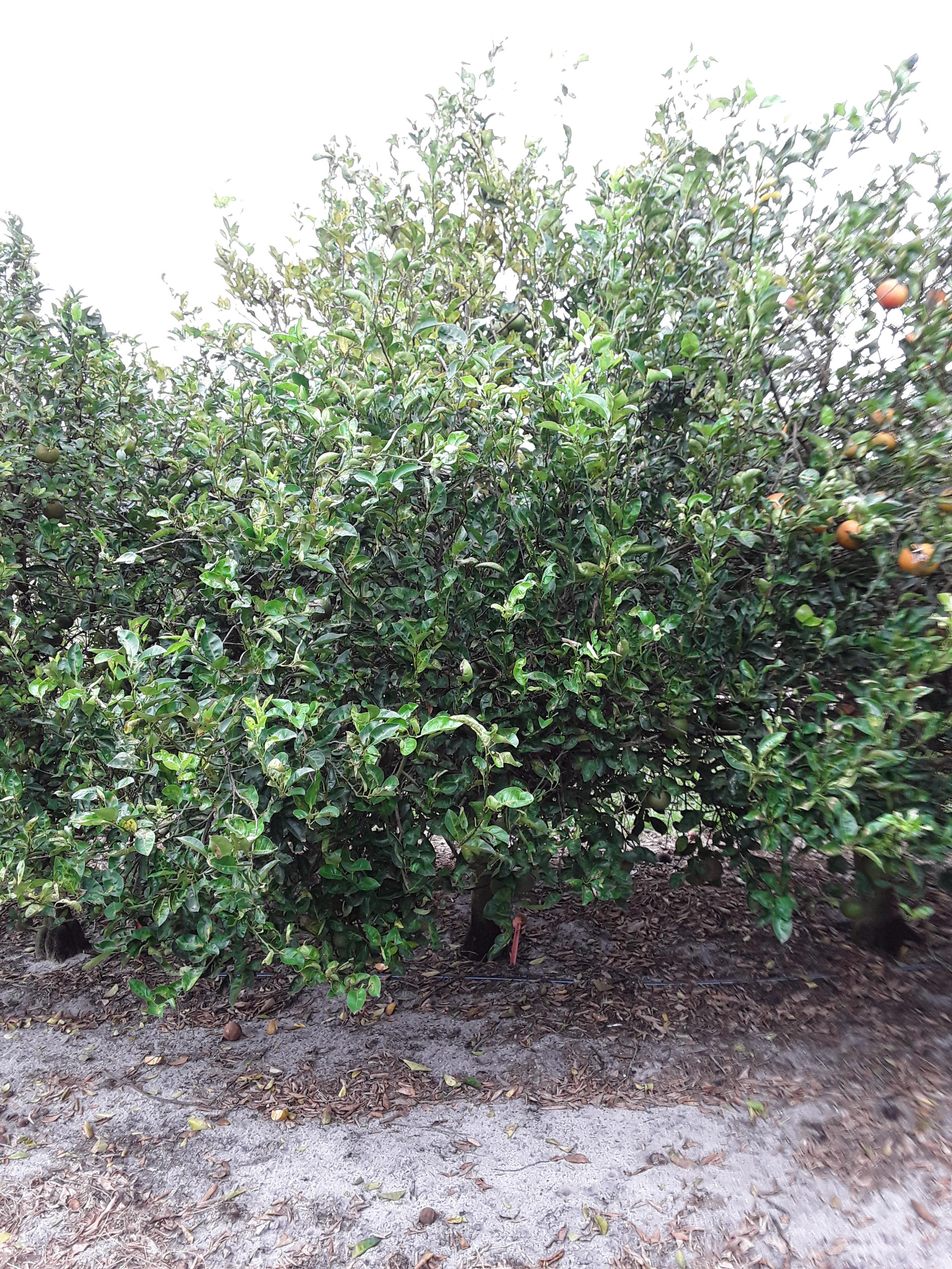fruit_on_ground: (896, 540, 942, 575), (797, 504, 834, 531), (837, 518, 866, 551), (875, 279, 908, 308), (331, 924, 362, 951), (760, 491, 793, 516), (304, 596, 334, 623), (660, 713, 690, 738), (839, 895, 866, 920), (698, 857, 724, 882), (647, 787, 672, 811), (33, 442, 61, 463), (113, 435, 137, 458), (935, 485, 952, 516), (871, 406, 895, 427), (872, 431, 898, 450), (925, 287, 948, 308), (843, 440, 867, 460), (827, 853, 849, 874), (42, 500, 65, 520), (786, 291, 807, 312), (505, 312, 527, 332), (192, 469, 213, 488), (490, 320, 509, 338), (637, 789, 654, 809), (905, 331, 918, 344)
fruit_on_tree: (222, 1021, 242, 1041), (419, 1205, 437, 1227)
